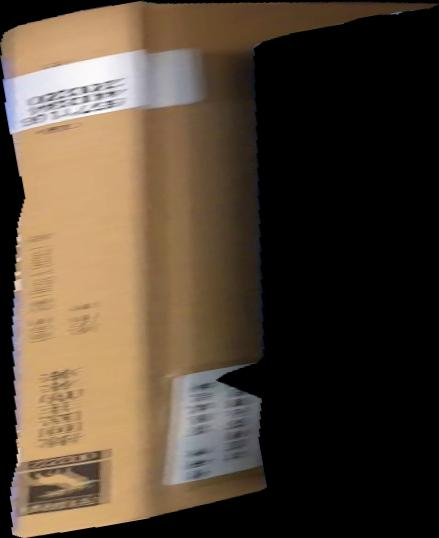reverse: (1, 1, 439, 538)
